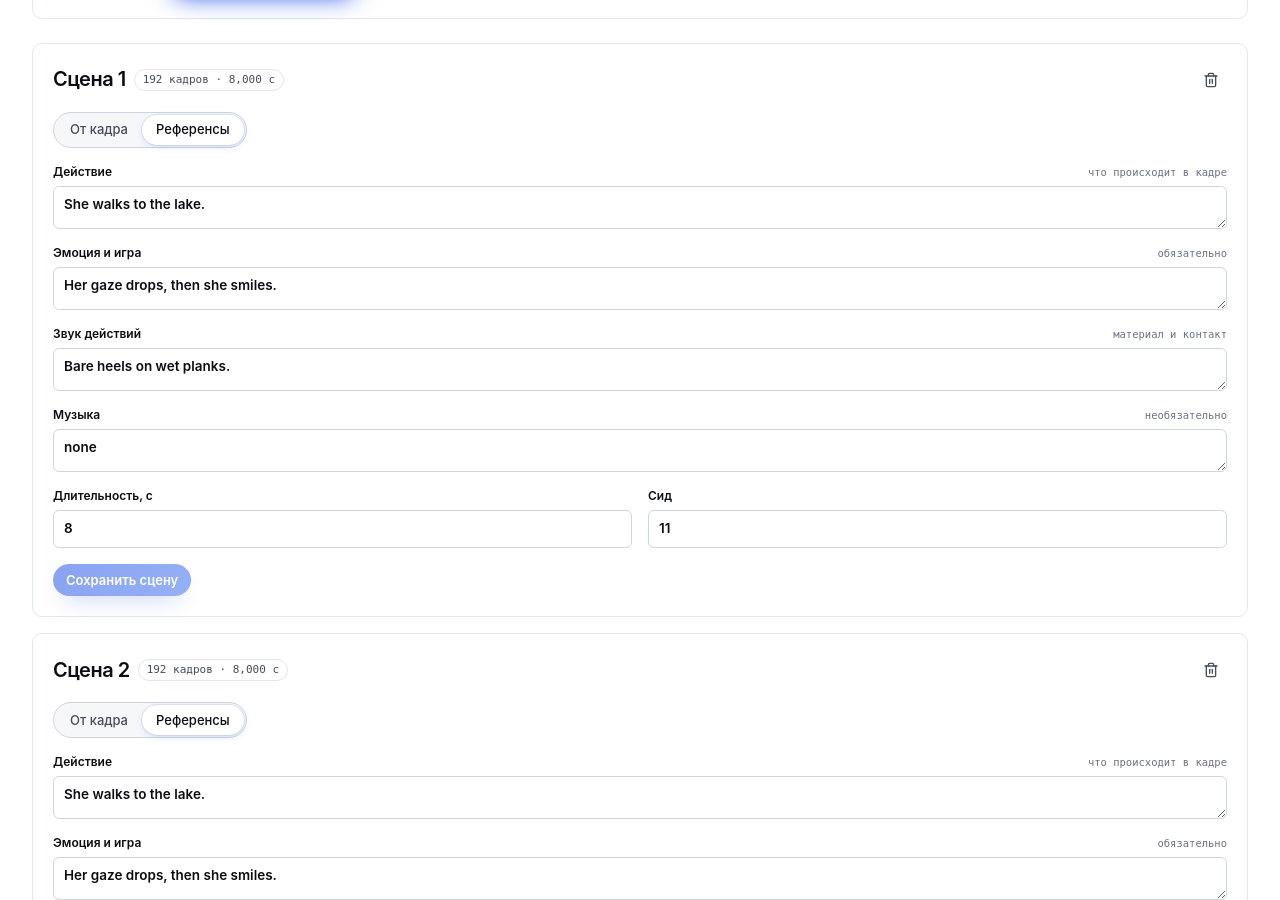
Test case: ProjectScreen — snapshot, SSE, unsaved edits, conflicts › r5: a second «Сохранить» while a request is in flight is queued — one request per card, nothing lost
This screenshot has width=1280, height=900.
(page scrolled)
Replace the text in the text box labelled "Музыка необязательно" with "mine" at (640, 451), box [53,429,1227,472]
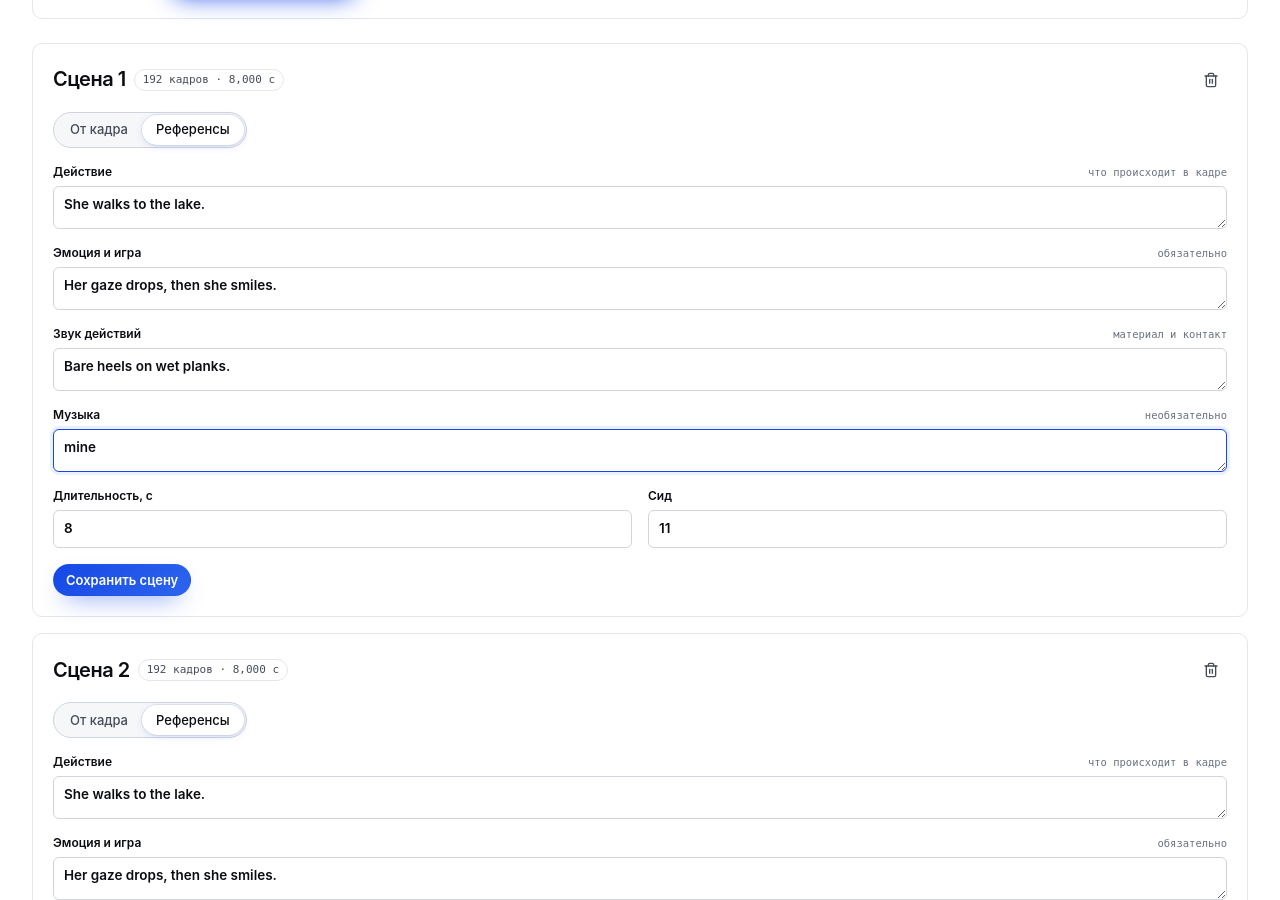
Click the button "Сохранить сцену".
click(122, 580)  # box [53,564,191,596]
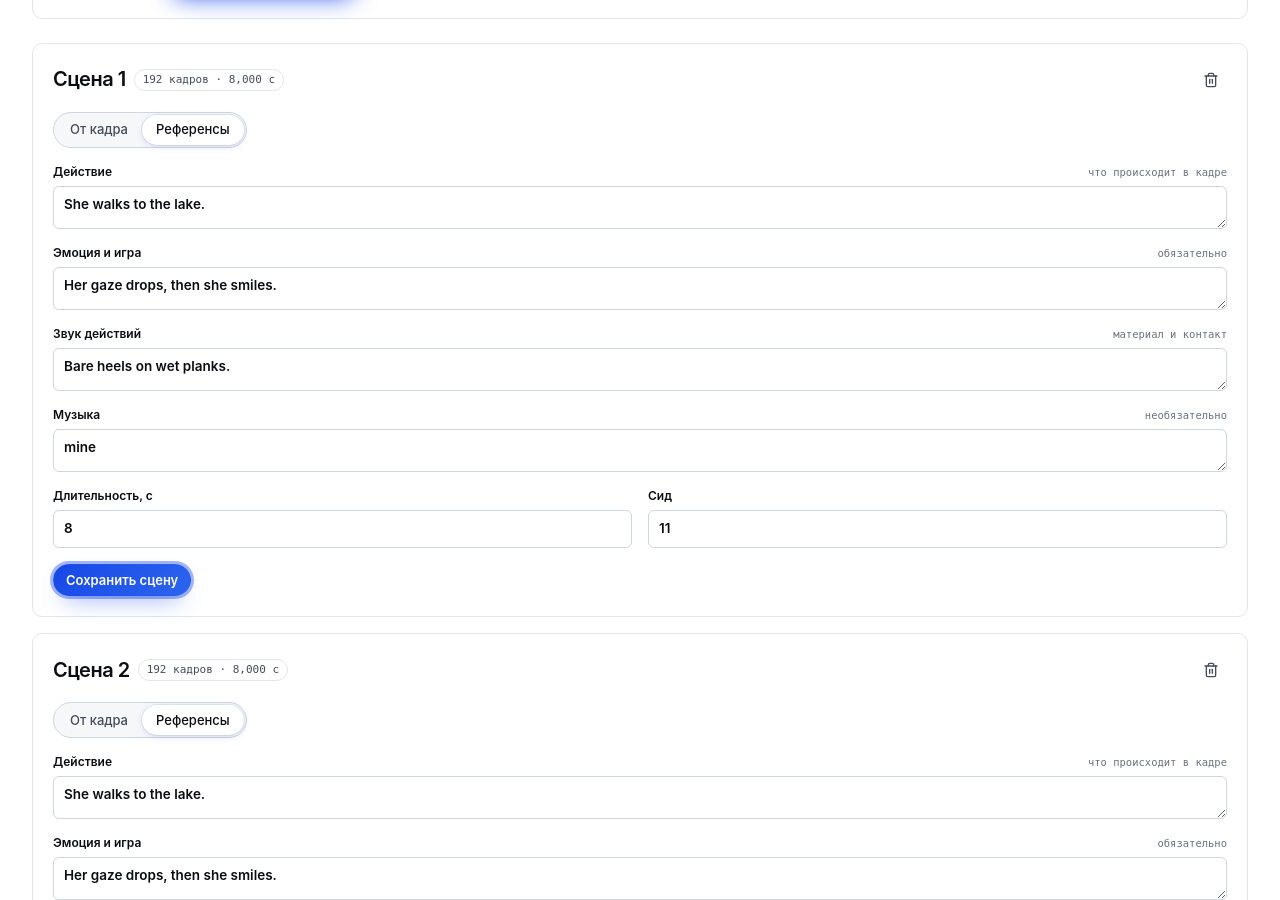
Type " Then she sits." into the 1st text box labelled "Действие что происходит в кадре".
click(640, 207); type(" Then she sits.")  # box [53,186,1227,229]
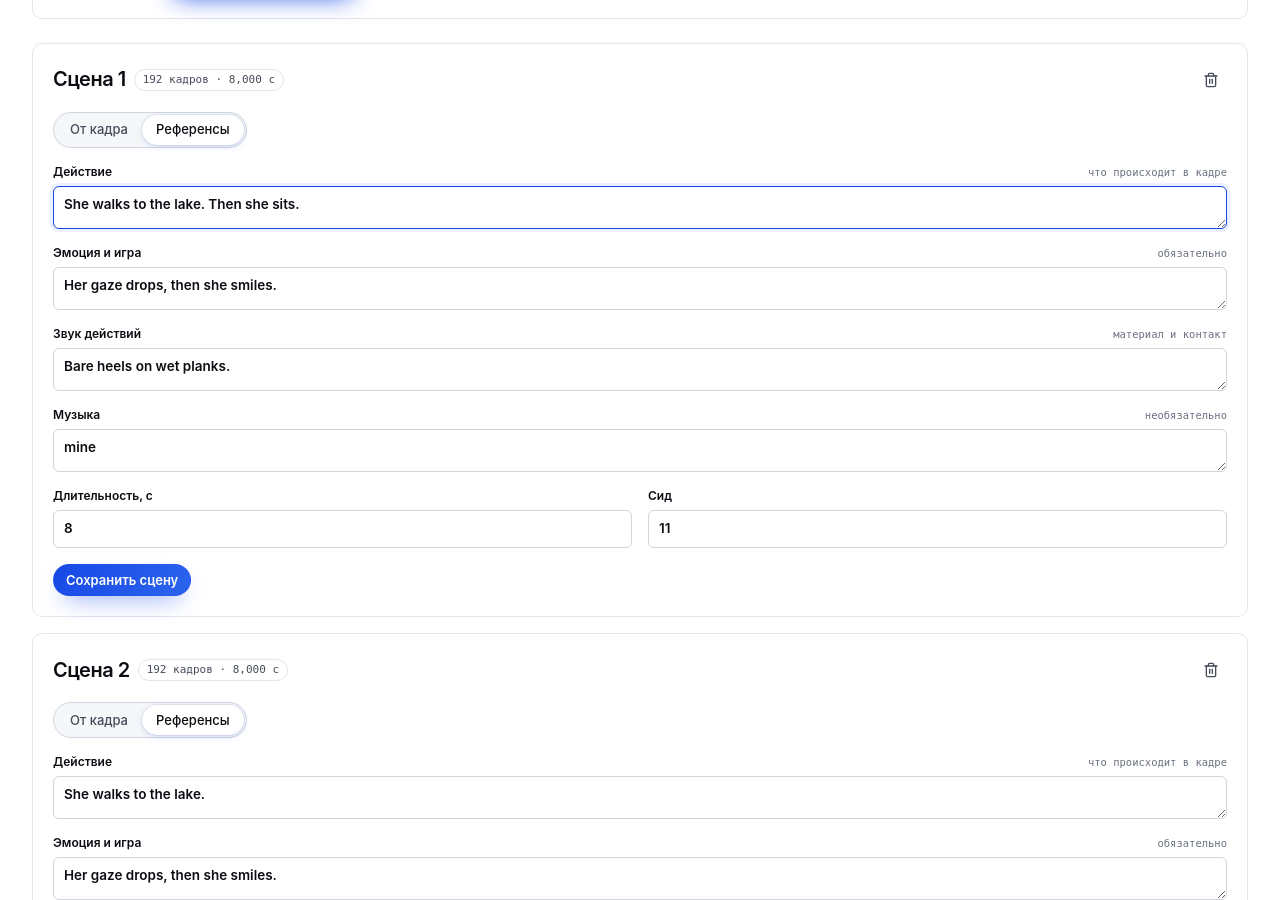
Click the button "Сохранить сцену".
click(122, 580)  # box [53,564,191,596]
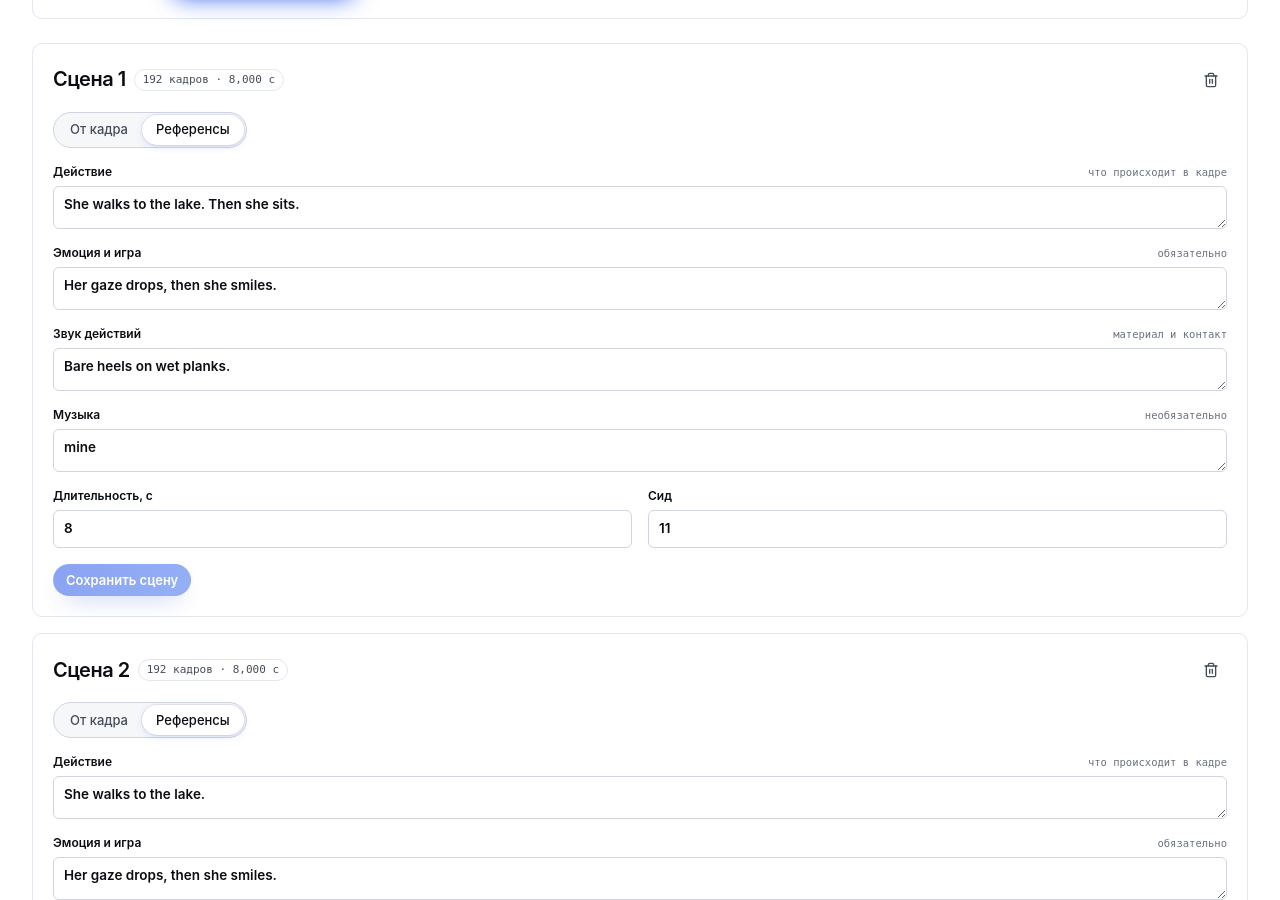
Expected: the button "Сохранить сцену" is disabled, [53,564,191,596]
